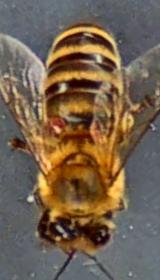varroa_mite: (36, 103, 76, 147)
